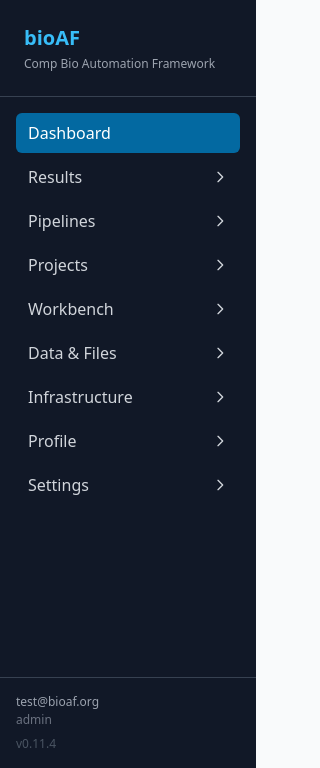
Scenario: Sidebar › shows child items when parent section is expanded
The width and height of the screenshot is (320, 768).
Expand Infrastructure
Click the button "Infrastructure" at (128, 397), box x1=16 y1=377 x2=240 y2=417
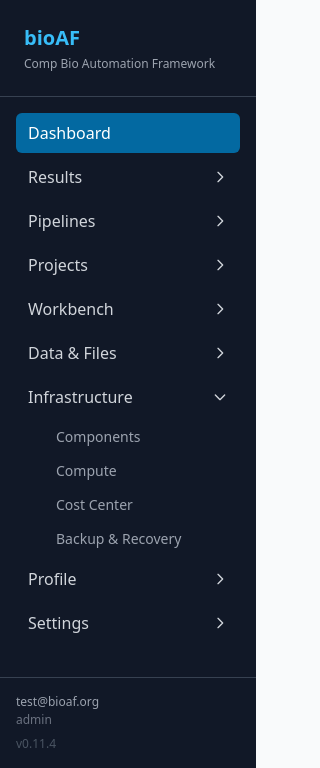
Result: the link "Components" is shown at x1=56 y1=427 x2=140 y2=446
Result: the link "Compute" is shown at x1=56 y1=461 x2=117 y2=480
Result: the link "Cost Center" is shown at x1=56 y1=495 x2=133 y2=514
